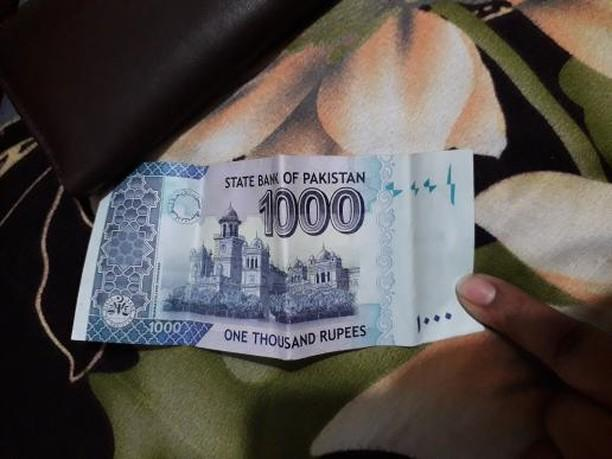1000 rupee: (65, 142, 475, 355)
